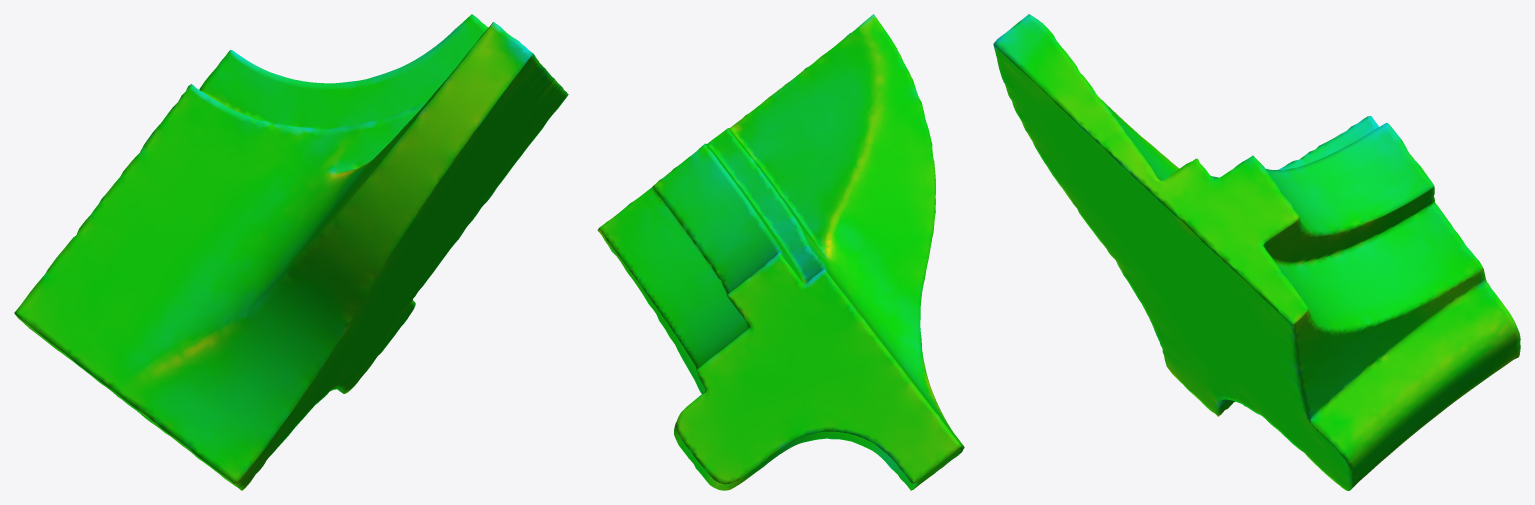
The model's file is all=0.000361-hole=0.000783-mgcn-wo-refine.obj.
3 views of the same model, side by side, from view 1: azimuth 30°, elevation 25°; view 2: azimuth 150°, elevation 25°; view 3: azimuth 270°, elevation 25° (orthographic). The views are drawn at different scales.
Bounding box in the file's own units: 83.53 × 78.93 × 80.05.
